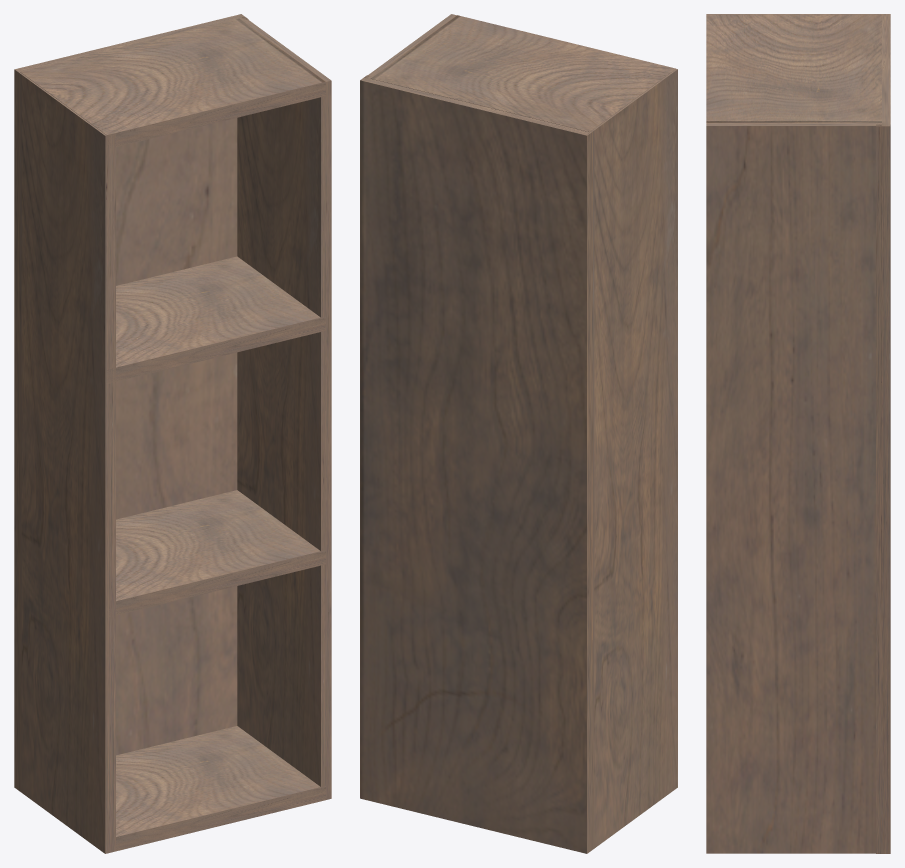
The model's file is Shelf.fbx.
3 renders of one model, left to right at view 1: azimuth 30°, elevation 25°; view 2: azimuth 150°, elevation 25°; view 3: azimuth 270°, elevation 25°, orthographic.
Visible parts, largest first — view 1: pCube20; view 2: pCube20; view 3: pCube20.
Part boxes in pixels (x1=…): pCube20: x1=14, y1=14, x2=331, y2=853; pCube20: x1=360, y1=14, x2=677, y2=853; pCube20: x1=706, y1=14, x2=890, y2=853.
Size of the model in its own units: 7.62 by 23.04 by 5.28.
